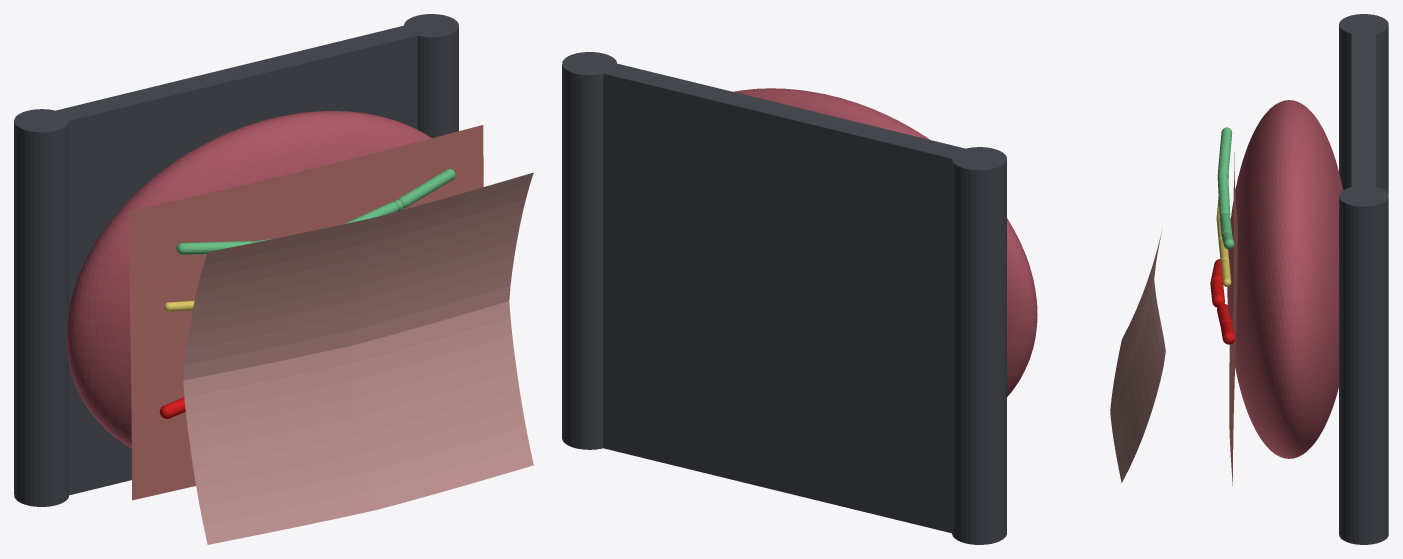
The model's file is dranmar_safeplane_complication_vessel.glb.
3 renders of one model, left to right at view 1: azimuth 30°, elevation 25°; view 2: azimuth 150°, elevation 25°; view 3: azimuth 270°, elevation 25°, orthographic. The views are drawn at different scales.
Parts seen in each view (by area): view 1: SuperficialFlap, Fixture, TargetBed, ProtectedOrgan, DuctRight, DuctLeft; view 2: Fixture, ProtectedOrgan; view 3: ProtectedOrgan, Fixture, SuperficialFlap, TargetBed, DuctLeft, VesselLeft, VesselRight, NerveRight, DuctRight.
Boxes of the visible parts, left/top/right/bottom form: SuperficialFlap: left=183, top=172, right=533, bottom=544; Fixture: left=14, top=14, right=458, bottom=506; TargetBed: left=129, top=125, right=483, bottom=500; ProtectedOrgan: left=66, top=111, right=431, bottom=448; DuctRight: left=344, top=169, right=455, bottom=223; DuctLeft: left=176, top=239, right=271, bottom=254; Fixture: left=562, top=52, right=1006, bottom=544; ProtectedOrgan: left=733, top=88, right=1037, bottom=396; ProtectedOrgan: left=1227, top=100, right=1342, bottom=458; Fixture: left=1339, top=14, right=1388, bottom=544; SuperficialFlap: left=1110, top=229, right=1165, bottom=482; TargetBed: left=1229, top=152, right=1237, bottom=485; DuctLeft: left=1217, top=127, right=1232, bottom=216; VesselLeft: left=1210, top=259, right=1224, bottom=307; VesselRight: left=1217, top=303, right=1234, bottom=344; NerveRight: left=1218, top=239, right=1231, bottom=286; DuctRight: left=1219, top=213, right=1234, bottom=249.
Size of the model in its own units: 0.22 by 0.18 by 0.1344.
